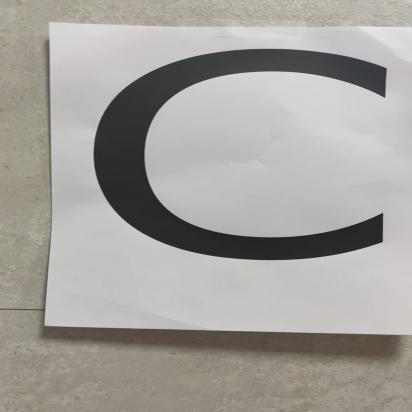seat: (63, 27, 412, 311)
